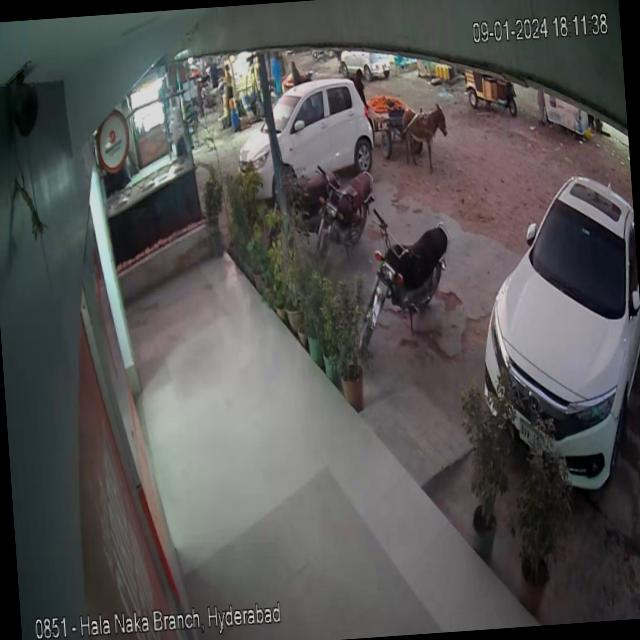Car: (464, 128, 640, 509), (212, 62, 379, 190)
Motorcycle: (348, 192, 466, 357), (314, 160, 384, 252)
